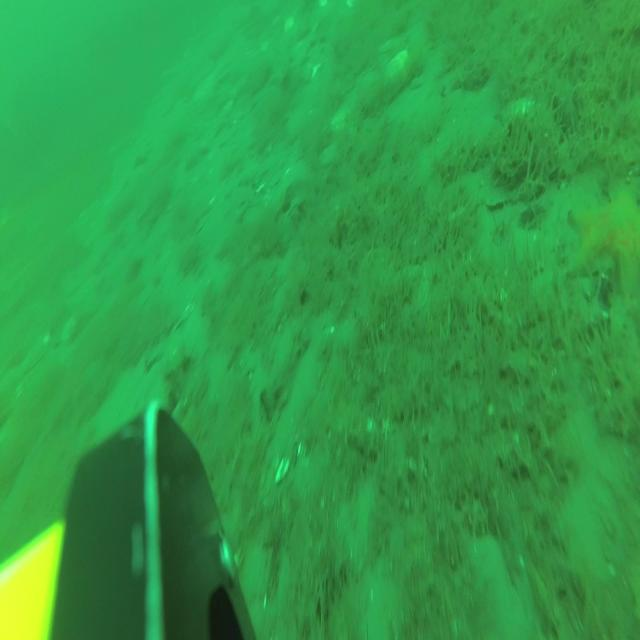scallop: (469, 530, 533, 640), (22, 329, 50, 373), (386, 50, 408, 79), (327, 108, 348, 136), (319, 142, 339, 164)
starfish: (567, 192, 640, 283)
